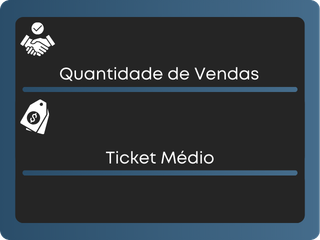

This screenshot's page, from the dashboard's own definition file:
{"tool":"powerbi","page":{"name":"Tooltip-Volume e Ticket Médio","canvas":[320,240],"ordinal":3},"visuals":[{"type":"cardVisual","fields":{"Data":["Medidas.Qtd Vendas"]},"box":[30,4,260,67],"z":0},{"type":"cardVisual","fields":{"Data":["Medidas.Ticket Médio"]},"box":[40,77,240,86],"z":1000}]}

Visuals, with their boxes in screenshot pixels (x1, y1, x2, y2), scaled from the page's 320x240 canvas onto the 320x240 screenshot:
cardVisual - Medidas.Qtd Vendas: (left=30, top=4, right=290, bottom=71)
cardVisual - Medidas.Ticket Médio: (left=40, top=77, right=280, bottom=163)
